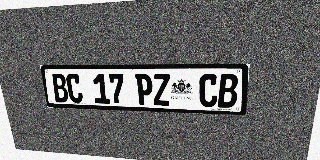1: (92, 74, 110, 104)
7: (108, 74, 126, 104)
B: (218, 74, 239, 108), (51, 74, 69, 103)
C: (199, 74, 218, 107), (65, 74, 84, 103)
P: (135, 74, 153, 105)
Z: (152, 74, 170, 106)
